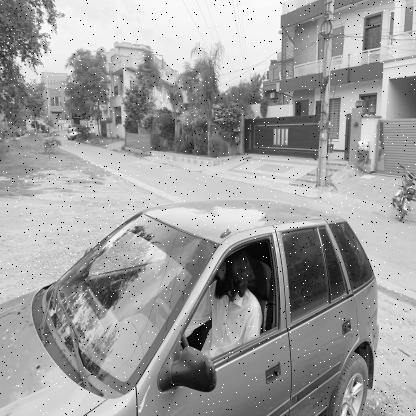no_seatbelt: (212, 258, 266, 342)
